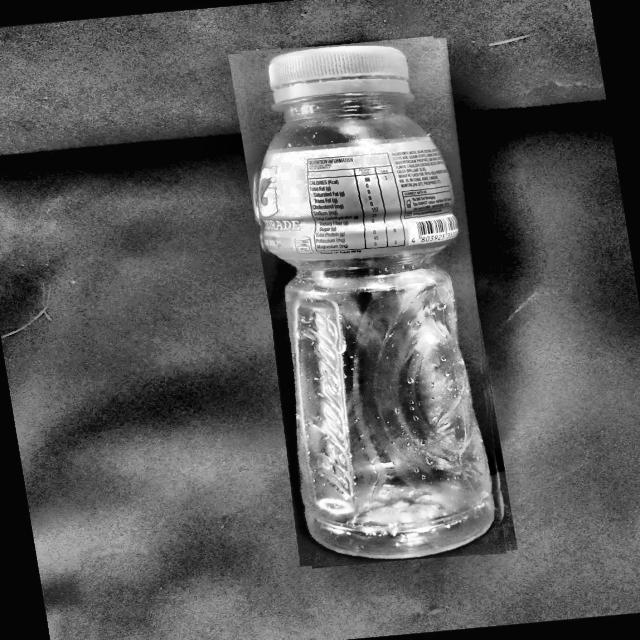Plastic-Bottle: (222, 34, 524, 571)
